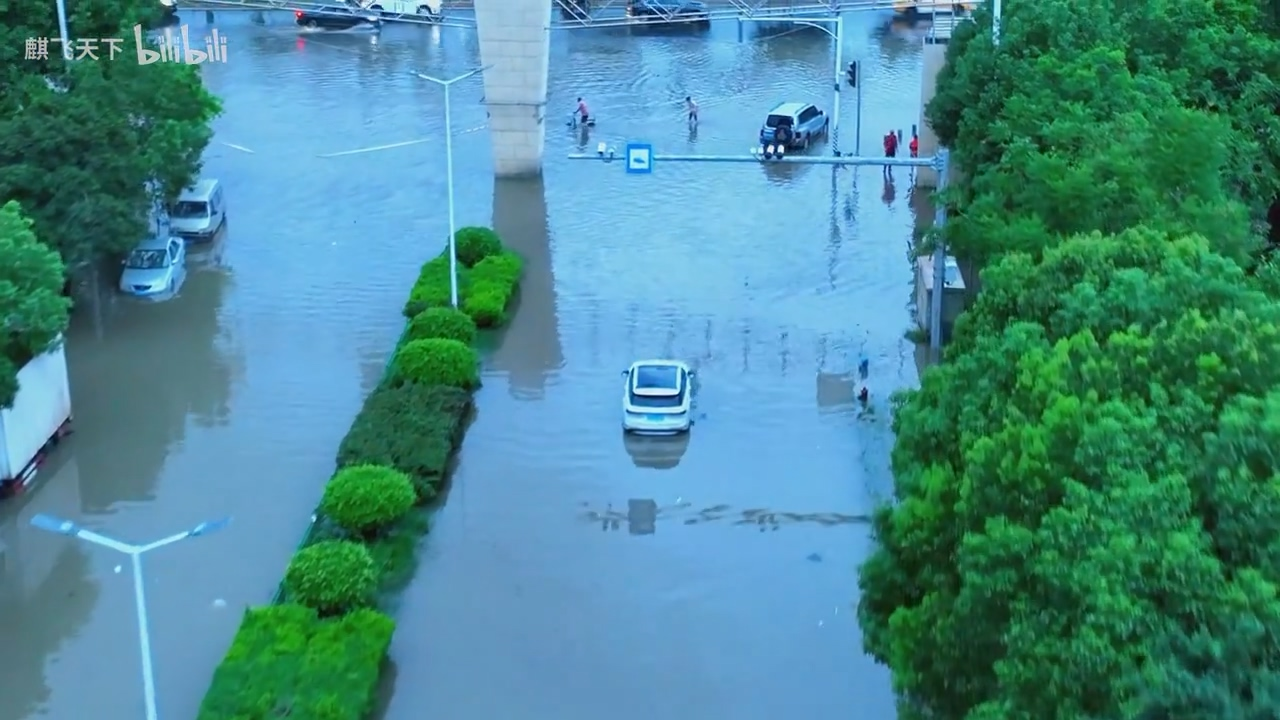puddle: (176, 120, 904, 720)
